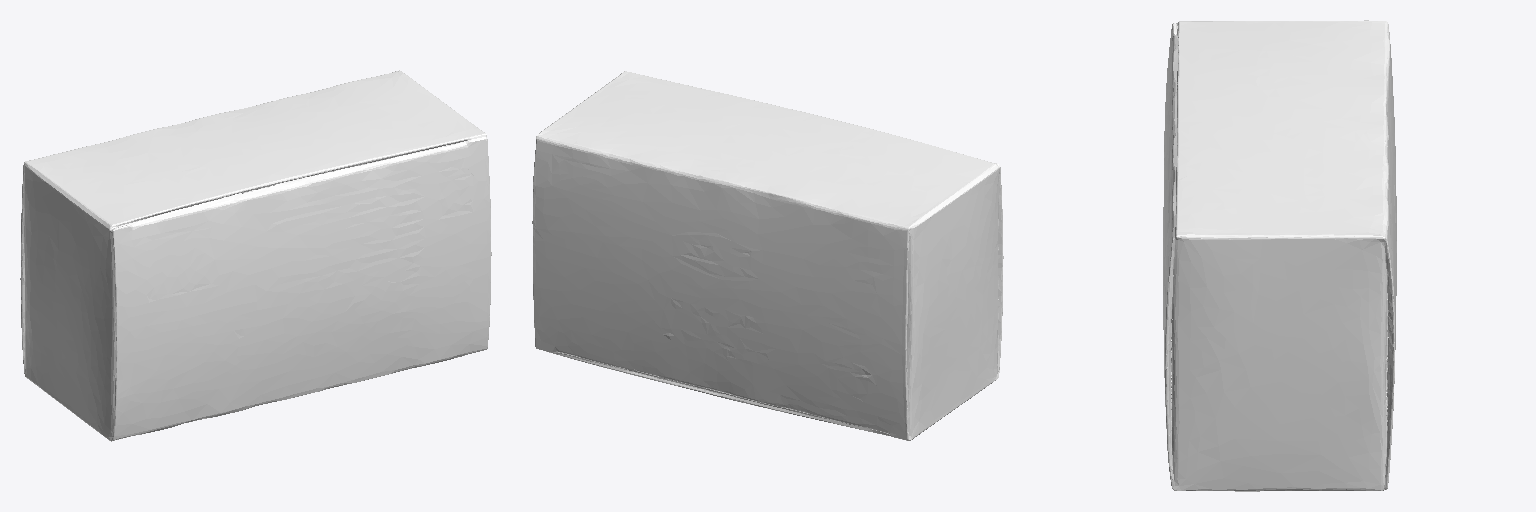
robot.urdf — model.urdf:
<?xml version="0.0" ?>
<robot name="model.urdf">
  <link name="baseLink">
    <contact>
      <friction_anchor/>
      <lateral_friction value="0.3"/>
      <rolling_friction value="0.0"/>
      <contact_cfm value="0.0"/>
      <contact_erp value="1.0"/>
    </contact>
    <inertial>
       <origin rpy="0 0 0" xyz="0 0 0"/>
       <mass value="0.1"/>
       <inertia ixx="8e-05" ixy="0" ixz="0" iyy="0.0002" iyz="0" izz="0.0002"/>
    </inertial>
    <visual>
      <geometry>
        <mesh filename="textured.obj" scale="1 1 1"/>
      </geometry>
      <material name="white">
        <color rgba="1. 1. 1. 1."/>
      </material>
    </visual>
    <collision>
      <geometry>
    	 	<mesh filename="collision.obj" scale="1 1 1"/>
      </geometry>
    </collision>
  </link>
</robot>

--- What the picture shows (computed from the rendered views, not written in the file) ---
The picture shows the robot from 3 angles, left to right: view 1: azimuth 30°, elevation 25°; view 2: azimuth 150°, elevation 25°; view 3: azimuth 270°, elevation 25°; orthographic projection.
Model model.urdf with 1 links and 0 joints (none), rooted at baseLink, posed all joints at 0.
Links seen in each view (by area): view 1: baseLink; view 2: baseLink; view 3: baseLink.
Link boxes in pixels (box(x1,y1,x2,y2)): baseLink: box(20, 70, 491, 441); baseLink: box(532, 71, 1003, 440); baseLink: box(1163, 20, 1396, 491).
Bounding box of the posed robot: 0.1544 × 0.0689 × 0.0863 m (x, y, z).
Meshes: 1 distinct files referenced, 1 mesh visuals loaded (1 OBJ).